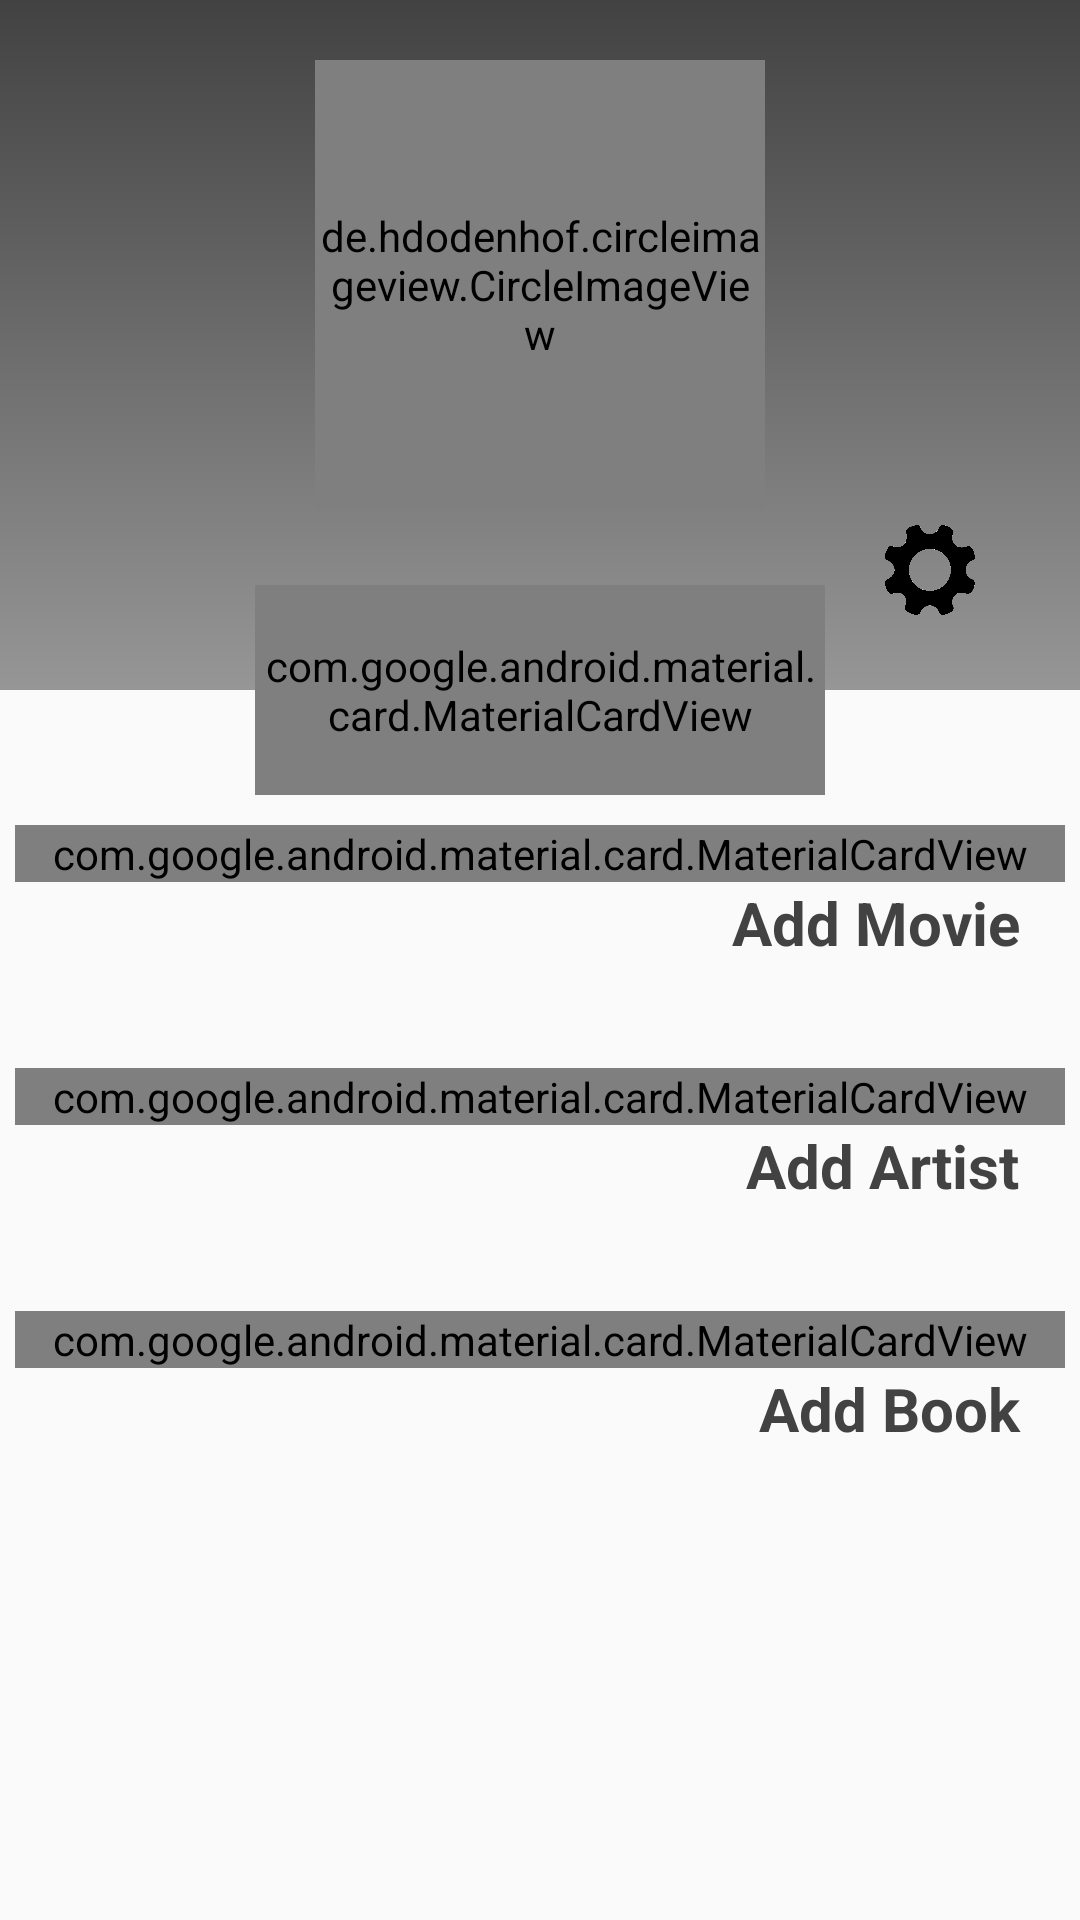

Icon click points for this 1080 × 1920 phone screenshot, format (x=x, y=y):
setting: (x=930, y=570)
